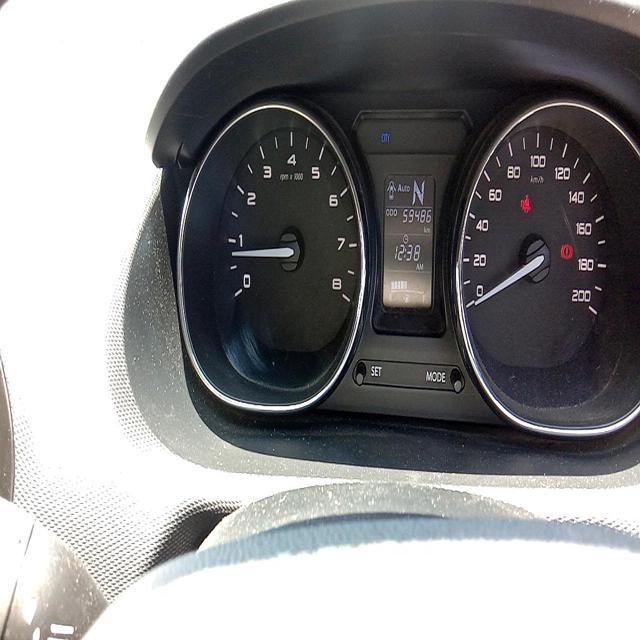odometer: (400, 204, 432, 228)
